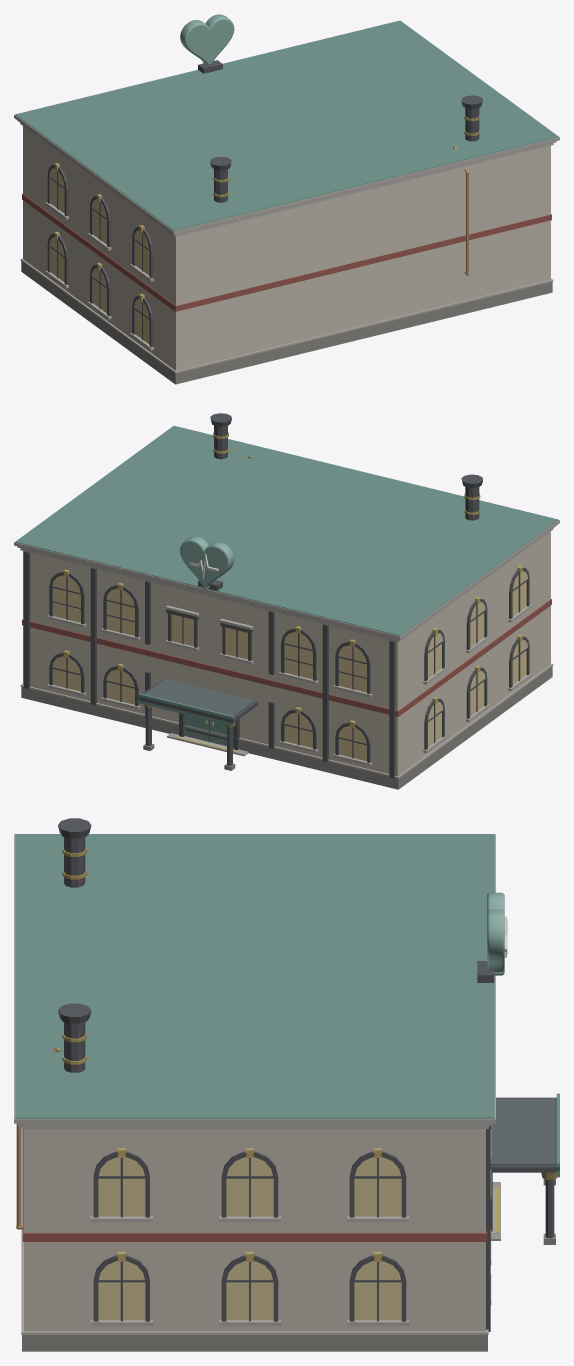
File: centro-hospital-ec4c91e6.glb
The picture shows the model from 3 angles, top to bottom: view 1: azimuth 30°, elevation 25°; view 2: azimuth 150°, elevation 25°; view 3: azimuth 270°, elevation 25°; orthographic projection. The views are drawn at different scales.
Parts seen in each view (by area): view 1: centro_hospital_body, centro_hospital_wall, centro_hospital_lamp, centro_hospital_glow; view 2: centro_hospital_body, centro_hospital_wall, centro_hospital_lamp, centro_hospital_glow; view 3: centro_hospital_body, centro_hospital_wall, centro_hospital_lamp, centro_hospital_glow.
Boxes of the visible parts, bbox=[...] form: centro_hospital_body: bbox=[14, 20, 559, 373]; centro_hospital_wall: bbox=[21, 126, 552, 384]; centro_hospital_lamp: bbox=[50, 168, 149, 344]; centro_hospital_glow: bbox=[180, 14, 234, 64]; centro_hospital_body: bbox=[14, 413, 559, 778]; centro_hospital_wall: bbox=[21, 531, 552, 789]; centro_hospital_lamp: bbox=[53, 571, 526, 761]; centro_hospital_glow: bbox=[180, 536, 234, 590]; centro_hospital_body: bbox=[14, 818, 559, 1334]; centro_hospital_wall: bbox=[22, 1129, 487, 1351]; centro_hospital_lamp: bbox=[98, 1157, 401, 1320]; centro_hospital_glow: bbox=[487, 892, 507, 975].
Bounding box in the file's own units: 20 × 10.12 × 16.2.
